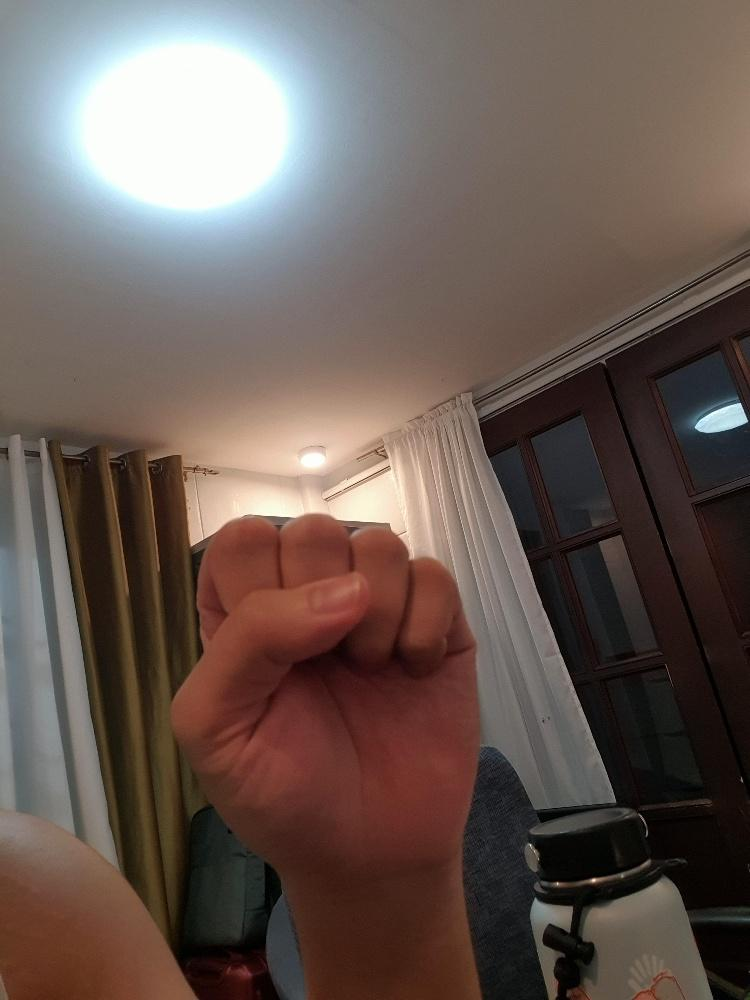s: (166, 505, 487, 880)
